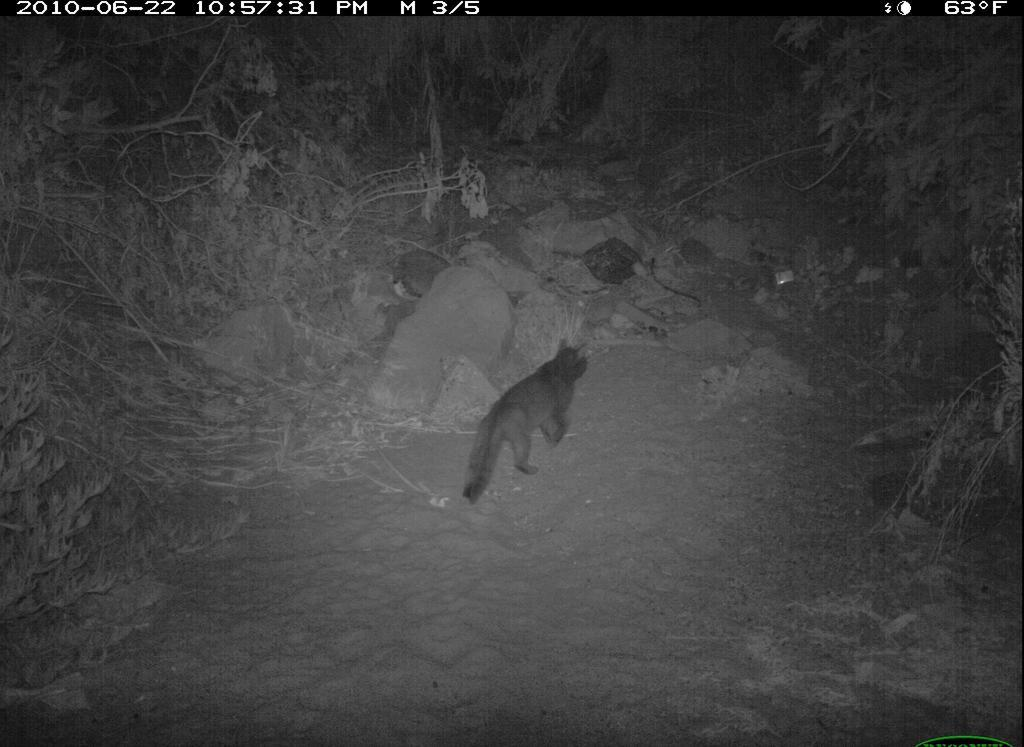cat: (461, 335, 598, 510)
